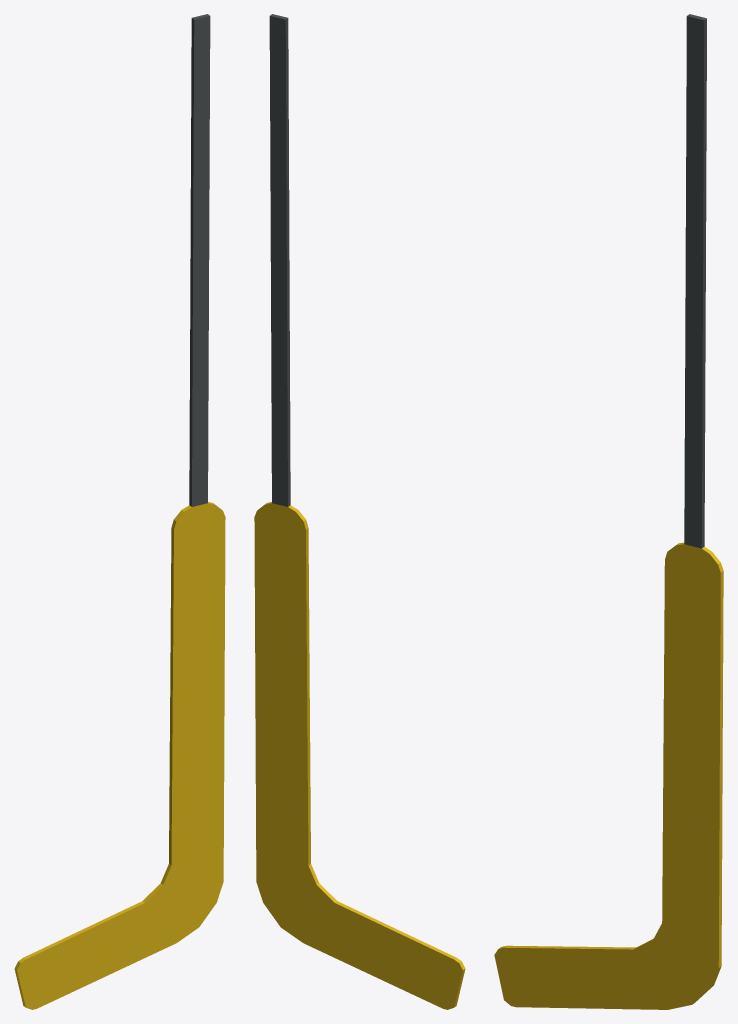
The model's file is Ice_hockey_blocker_yellow.fbx.
3 renders of one model, left to right at view 1: azimuth 30°, elevation 25°; view 2: azimuth 150°, elevation 25°; view 3: azimuth 330°, elevation 25°, orthographic. The views are drawn at different scales.
Parts seen in each view (by area): view 1: Ice_hockey_blocker_yellow; view 2: Ice_hockey_blocker_yellow; view 3: Ice_hockey_blocker_yellow.
Boxes of the visible parts, x1,y1,x2,y2 form: Ice_hockey_blocker_yellow: (14, 14, 225, 1009); Ice_hockey_blocker_yellow: (254, 14, 465, 1009); Ice_hockey_blocker_yellow: (494, 14, 723, 1009).
Bounding box in the file's own units: 45.15 × 197 × 0.979.
